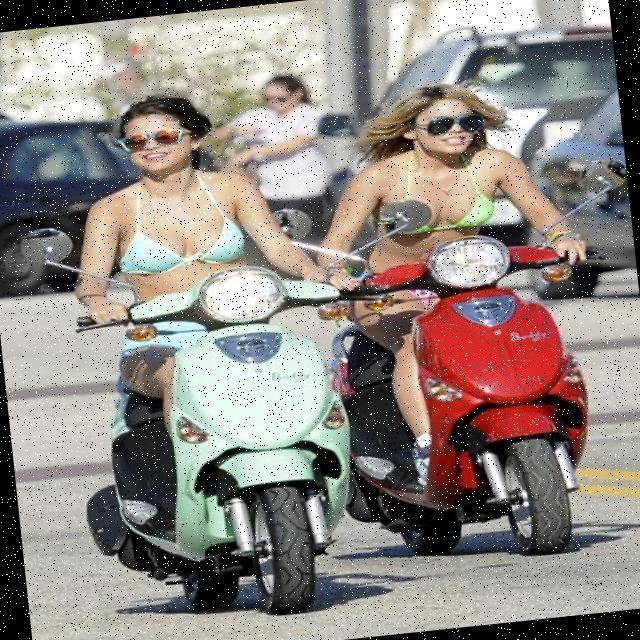No helmet: (104, 96, 228, 188), (398, 75, 497, 159)
